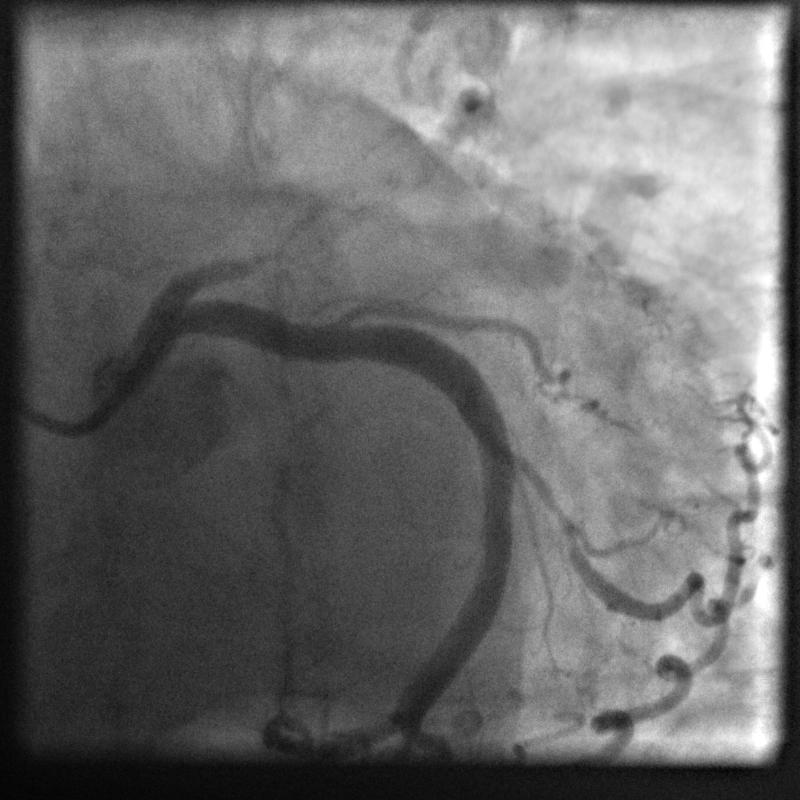Stenosis: (502, 428, 590, 572)
